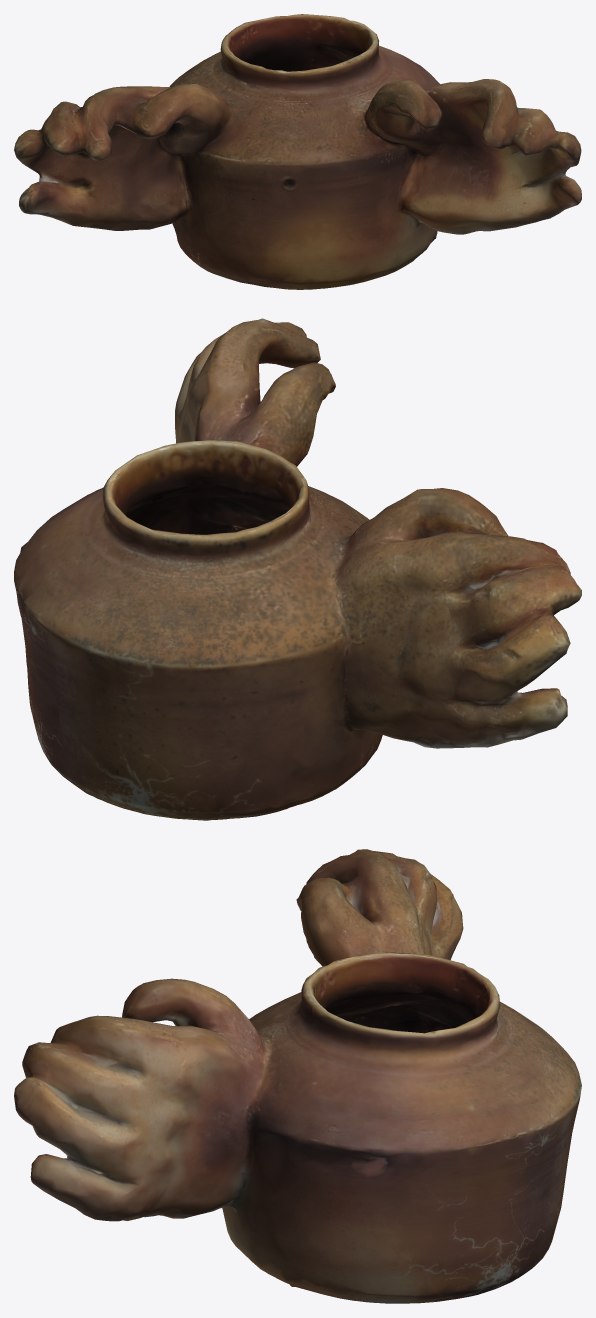
The model's file is zelus.glb.
3 views of the same model, one above another, from view 1: azimuth 30°, elevation 25°; view 2: azimuth 150°, elevation 25°; view 3: azimuth 270°, elevation 25° (orthographic). The views are drawn at different scales.
Parts seen in each view (by area): view 1: Zelus; view 2: Zelus; view 3: Zelus.
Part boxes in pixels (left/top/right/bottom): Zelus: left=14, top=14, right=581, bottom=289; Zelus: left=14, top=318, right=581, bottom=820; Zelus: left=14, top=849, right=581, bottom=1303.
Bounding box in the file's own units: 5.63 × 2.82 × 5.19.
Materials: 1 (1 with a texture image).
